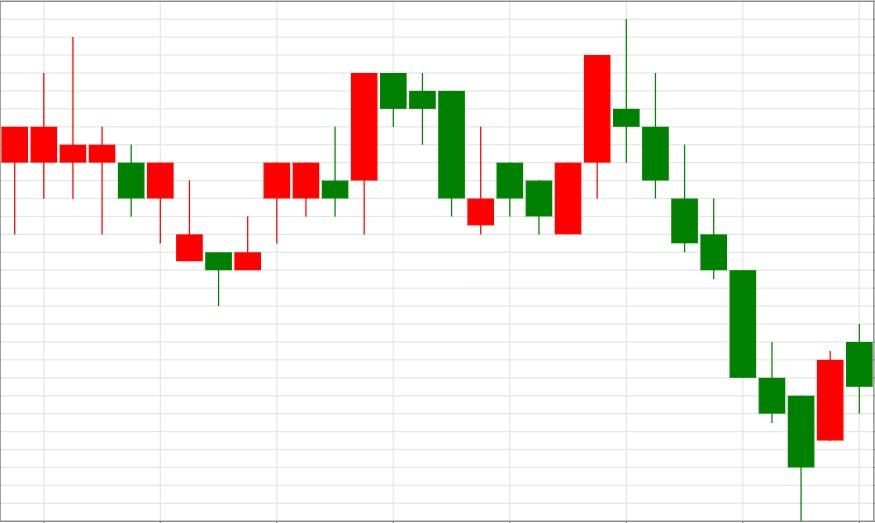bullish_engulfing_rise: (380, 73, 583, 235)
hammer_rise: (0, 36, 233, 307)
three_black_crows_fall: (525, 18, 699, 252)
